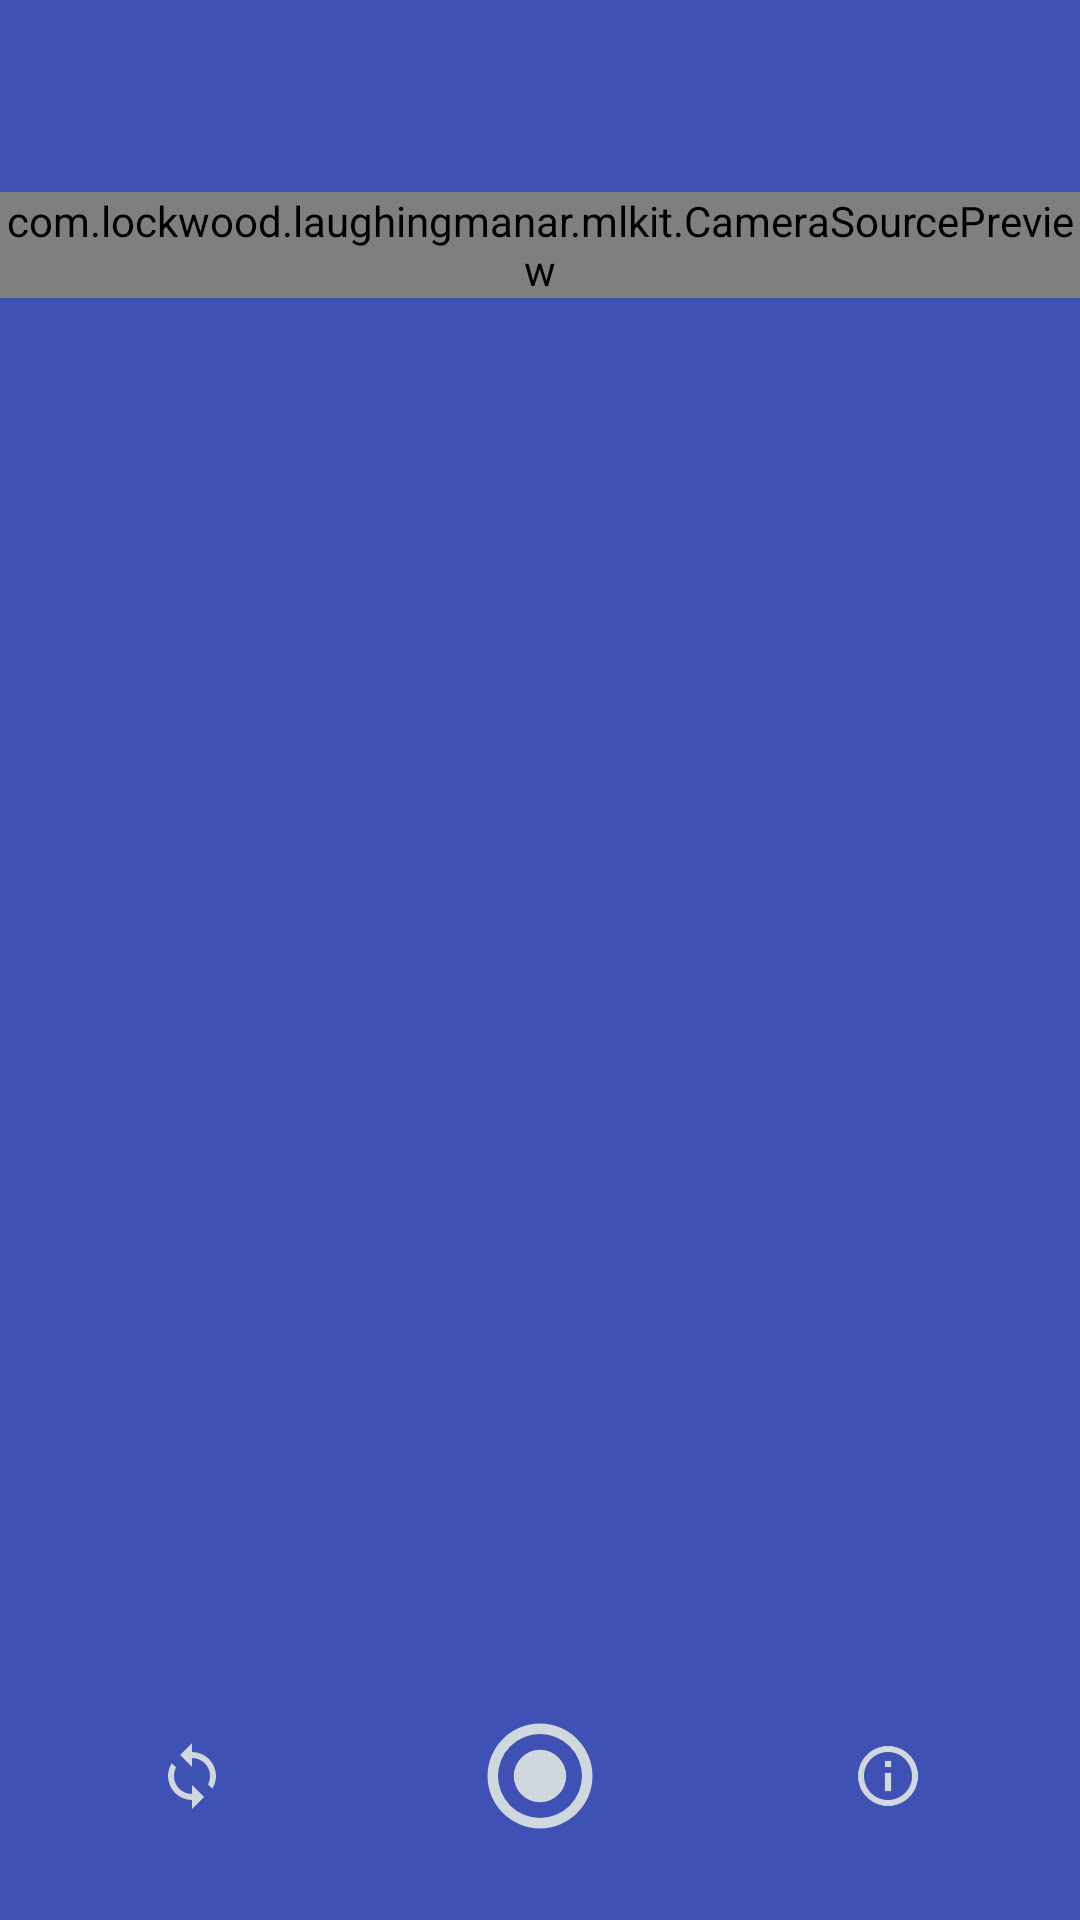

Icons on this 1080 x 1920 Android screen, each with the point to tap as [x,y]:
Info: [888,1776]
Swap: [192,1776]
